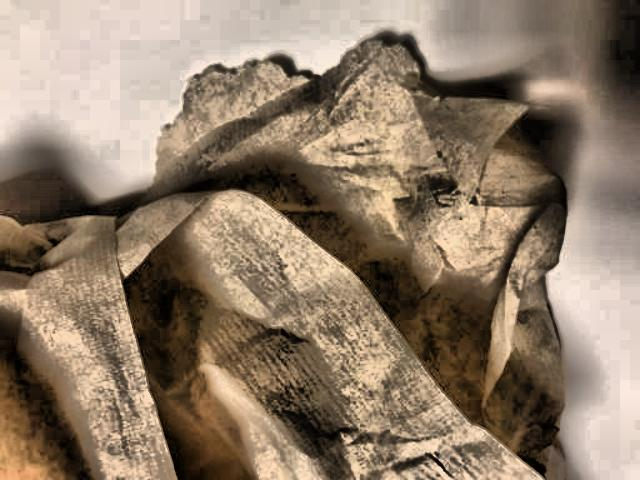Paper: (0, 41, 611, 480)
